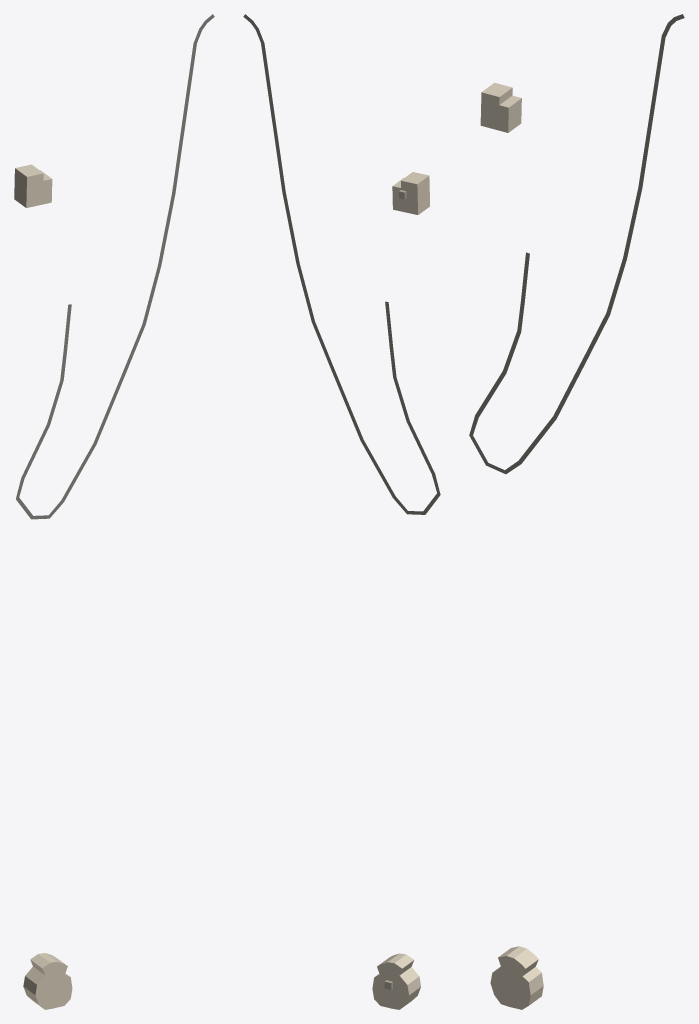
File: historic-palestine-15_33_3565_3276.glb
3 renders of one model, left to right at view 1: azimuth 30°, elevation 25°; view 2: azimuth 150°, elevation 25°; view 3: azimuth 330°, elevation 25°, orthographic. The views are drawn at different scales.
Parts seen in each view (by area): view 1: Road, Building_, Building_.001; view 2: Road, Building_, Building_.001; view 3: Road, Building_, Building_.001.
Part boxes in pixels (x1,y1,x2,y2): Road: [16, 14, 214, 519]; Building_: [23, 953, 72, 1009]; Building_.001: [14, 164, 52, 207]; Road: [243, 14, 440, 514]; Building_: [372, 953, 420, 1009]; Building_.001: [392, 172, 429, 214]; Road: [469, 14, 684, 474]; Building_: [490, 946, 543, 1009]; Building_.001: [480, 82, 521, 132].
Size of the model in its own units: 71.14 by 326 by 8.7.
